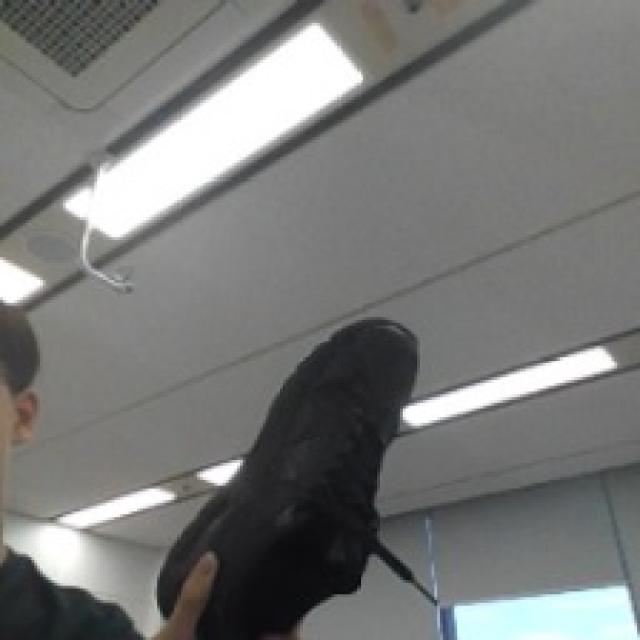shoe: (134, 302, 473, 638)
